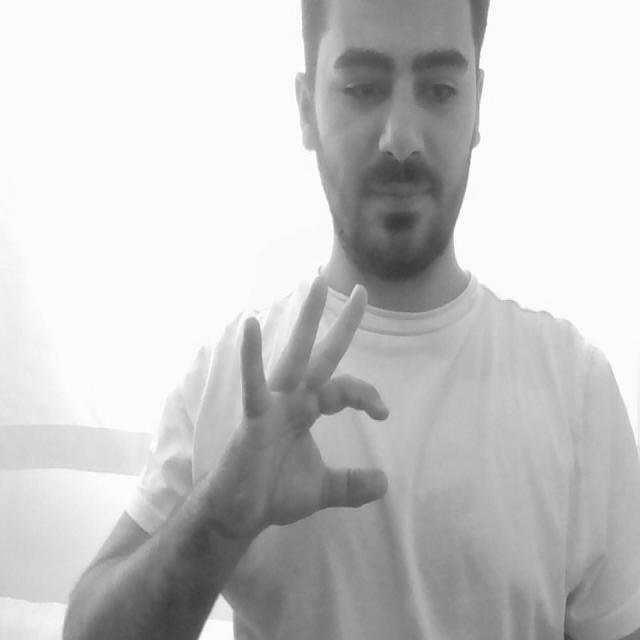Tuvalet: (186, 253, 418, 553)
